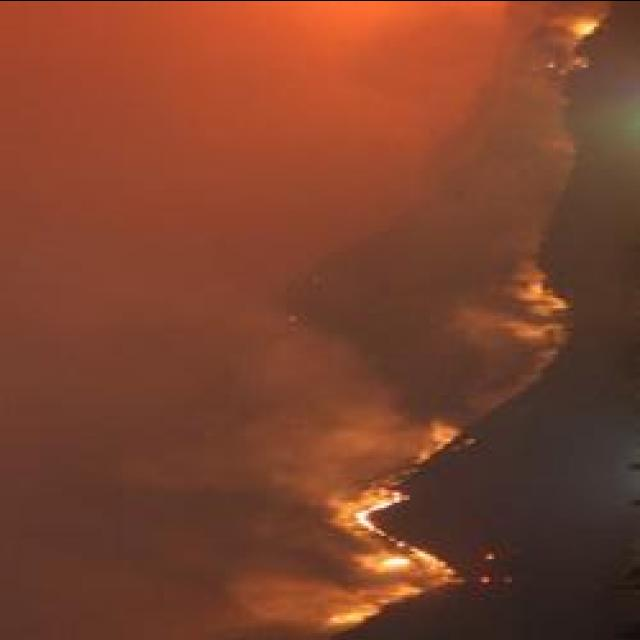fire: (354, 504, 373, 526)
smoke: (335, 0, 491, 115), (277, 372, 403, 484), (230, 579, 350, 619)
